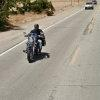Motorcycle: (15, 25, 53, 64)
